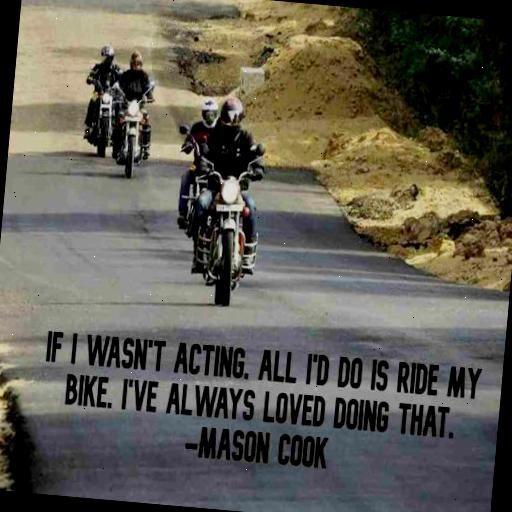helmet: (188, 86, 272, 308), (108, 46, 166, 178), (79, 38, 130, 154)
